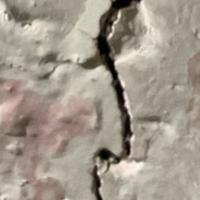crack: (65, 1, 160, 199)
